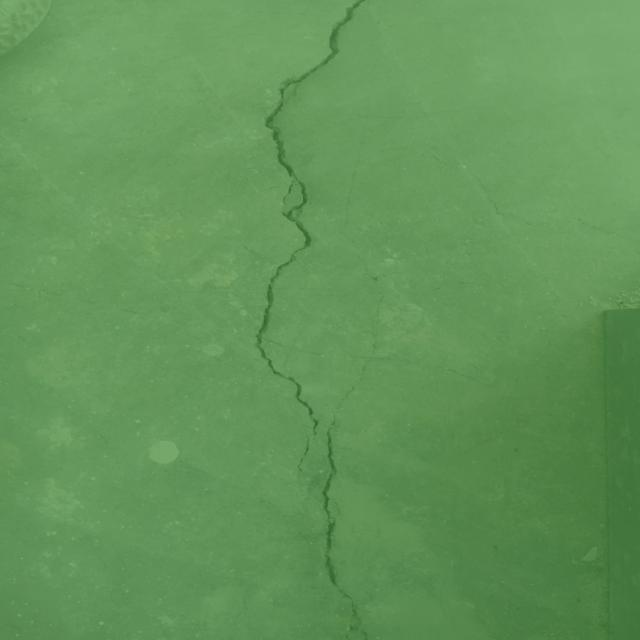crack: (254, 0, 366, 437), (322, 254, 386, 640), (410, 150, 530, 224), (296, 431, 310, 478)
